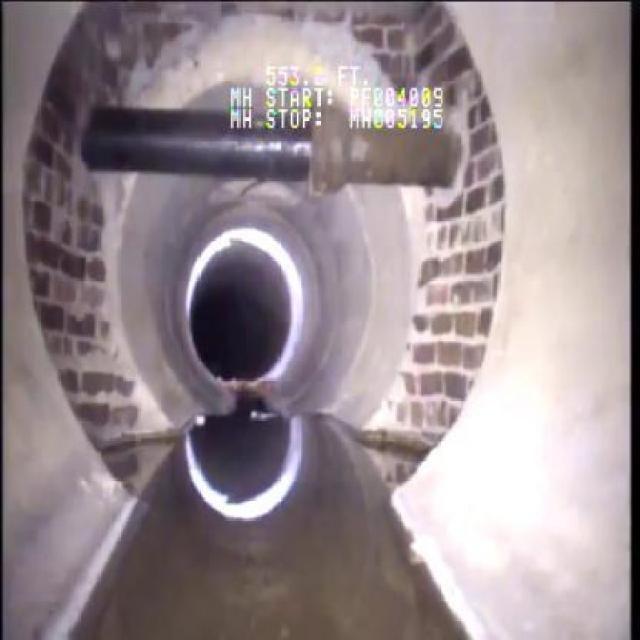Utility intrusion: (79, 101, 462, 192)
